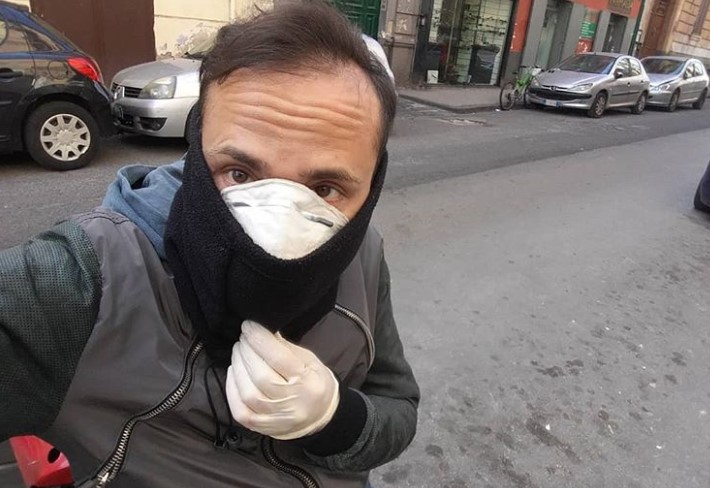face_with_mask: (172, 15, 392, 329)
